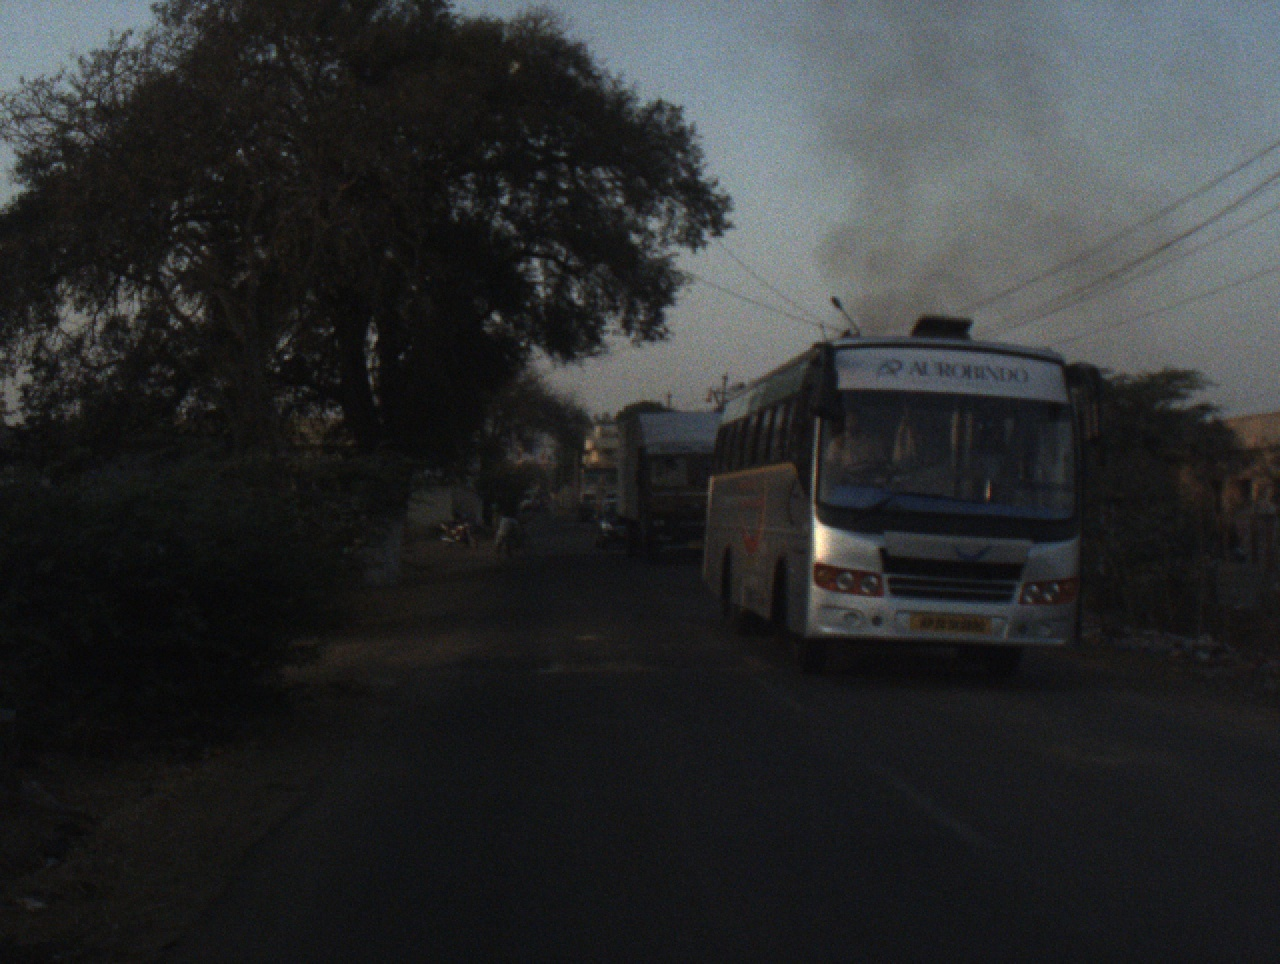bus: (700, 313, 1107, 677)
car: (590, 497, 622, 555)
motorcycle: (437, 511, 479, 554)
person: (492, 508, 527, 562)
truck: (612, 411, 721, 562), (573, 426, 619, 523), (519, 487, 542, 517)
